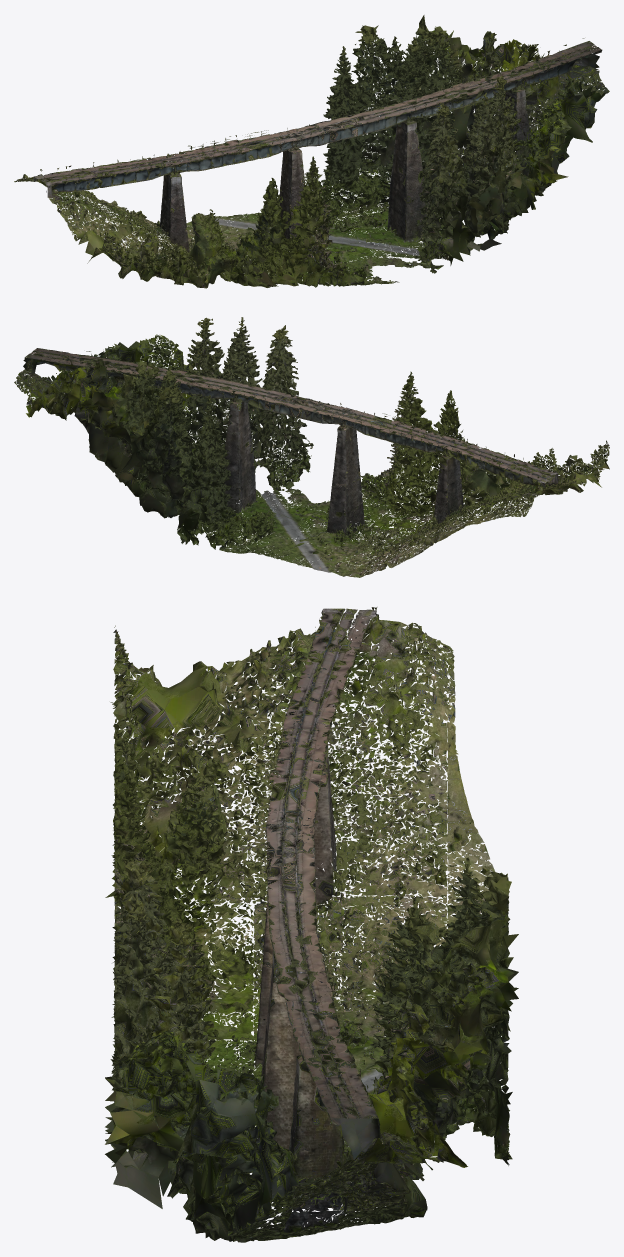
The model's file is far_rail.glb.
3 renders of one model, top to bottom at view 1: azimuth 30°, elevation 25°; view 2: azimuth 150°, elevation 25°; view 3: azimuth 270°, elevation 25°, orthographic. The views are drawn at different scales.
Visible parts, largest first — view 1: rail; view 2: rail; view 3: rail.
Boxes of the visible parts, x1=… form: rail: x1=14, y1=15, x2=609, y2=288; rail: x1=14, y1=317, x2=609, y2=577; rail: x1=105, y1=607, x2=518, y2=1242.
Bounding box in the file's own units: 295 × 82.68 × 101.
10 materials, 10 textured.
